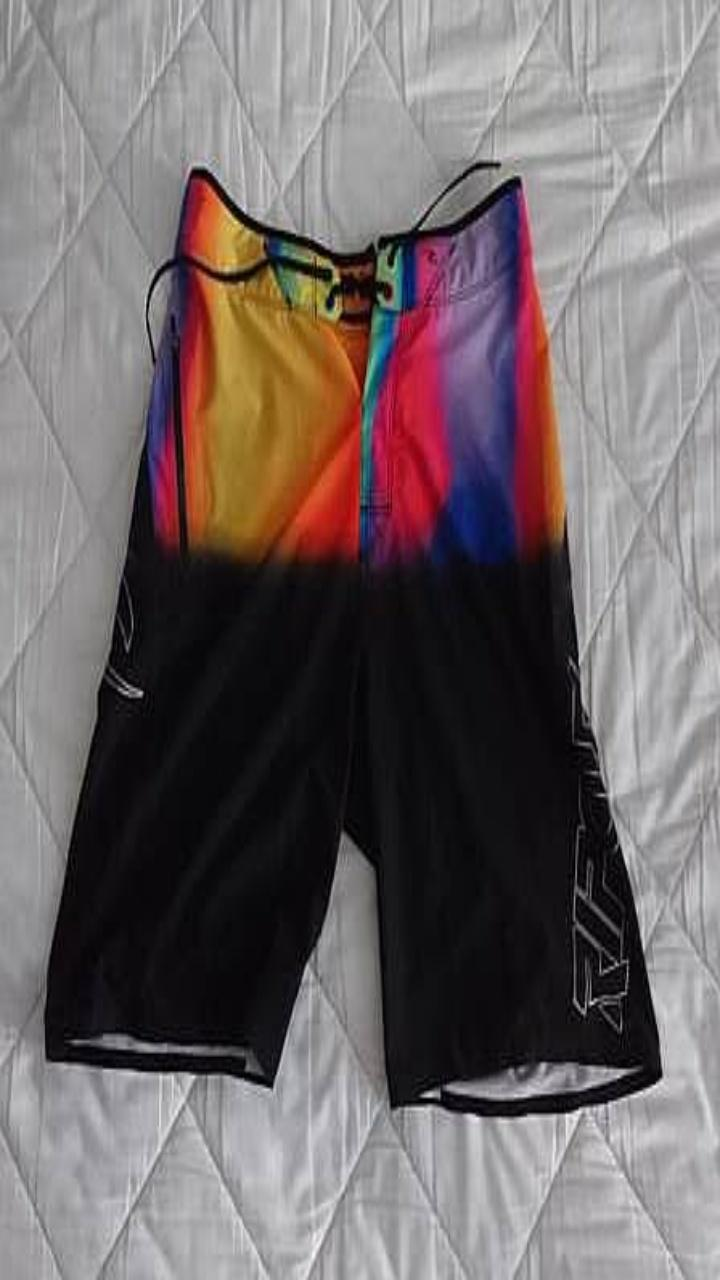Shorts: (45, 168, 660, 1113)
